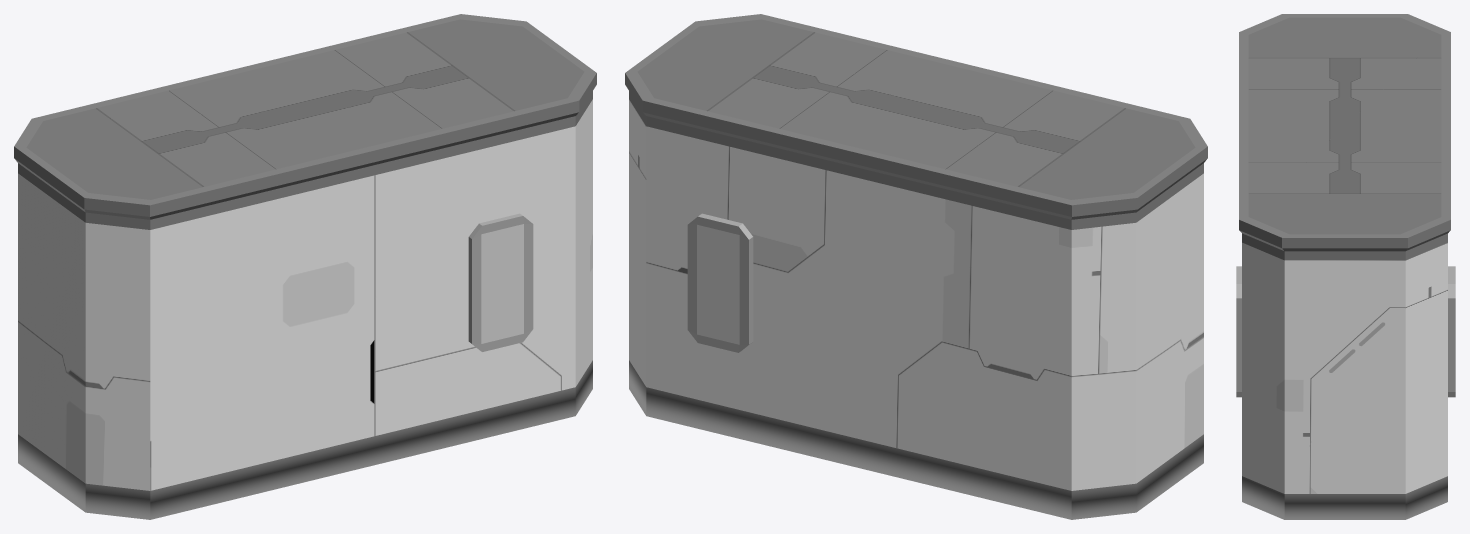
Rendered from SM_Platform_2x5_2.fbx.
3 renders of one model, left to right at view 1: azimuth 30°, elevation 25°; view 2: azimuth 150°, elevation 25°; view 3: azimuth 270°, elevation 25°, orthographic. The views are drawn at different scales.
Visible parts, largest first — view 1: SM_Platform_2x5_2; view 2: SM_Platform_2x5_2; view 3: SM_Platform_2x5_2.
Part boxes in pixels (bbox=[...]): SM_Platform_2x5_2: bbox=[14, 14, 596, 519]; SM_Platform_2x5_2: bbox=[625, 14, 1207, 519]; SM_Platform_2x5_2: bbox=[1236, 14, 1455, 519].
Bounding box in the file's own units: 500 × 295 × 207.
